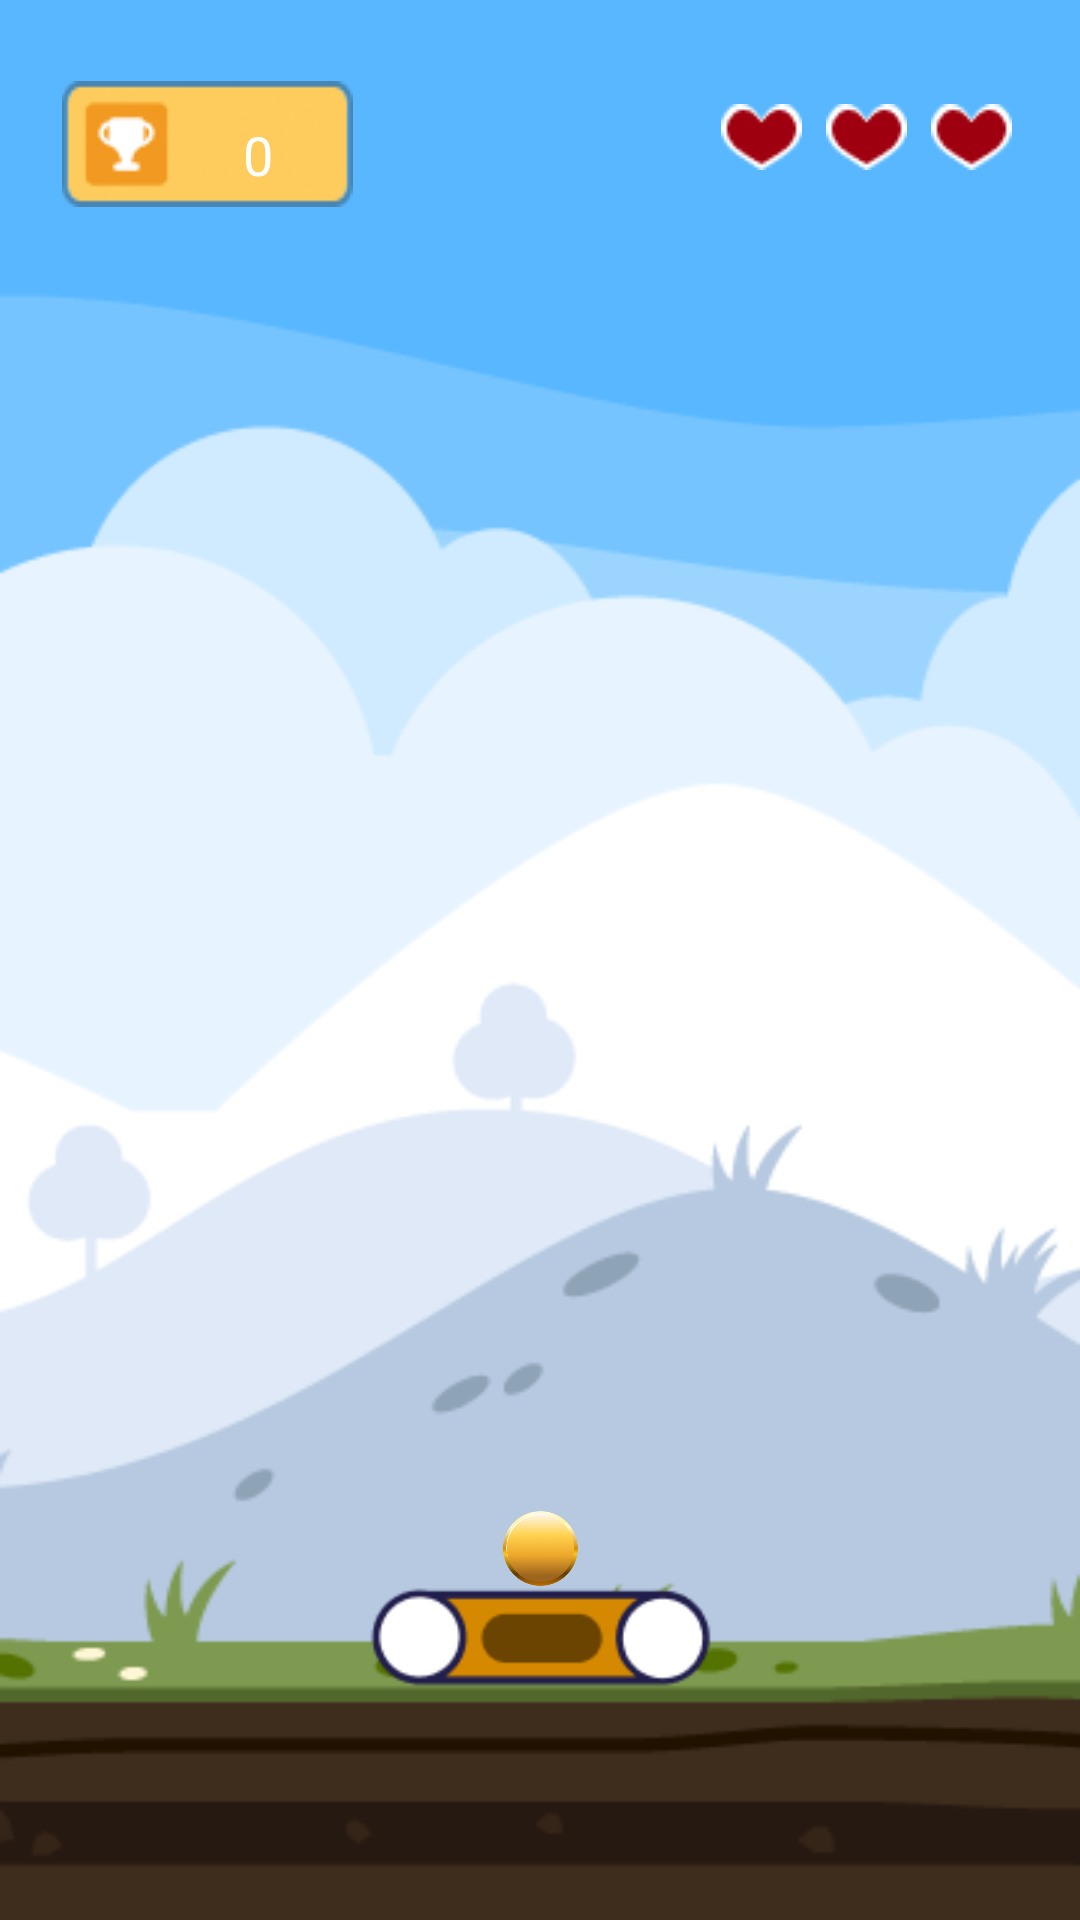

Screen size 1080px×1920px. Icon name, then its box in pixels as {"left": x1, "top": y1, "right": x2, "bottom": y2}:
ball: {"left": 503, "top": 1511, "right": 578, "bottom": 1586}
fillheart: {"left": 721, "top": 104, "right": 802, "bottom": 170}, {"left": 826, "top": 104, "right": 907, "bottom": 170}, {"left": 931, "top": 104, "right": 1012, "bottom": 170}
score board: {"left": 62, "top": 81, "right": 353, "bottom": 207}
